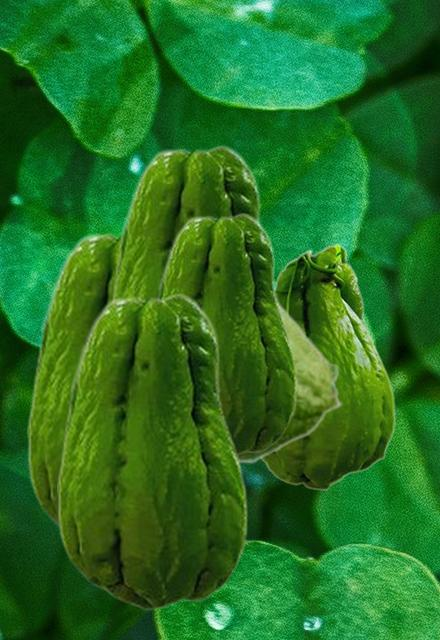sayote: (57, 292, 247, 610), (156, 212, 296, 456), (261, 243, 395, 490), (109, 144, 286, 324), (27, 230, 119, 530), (239, 299, 343, 466)
